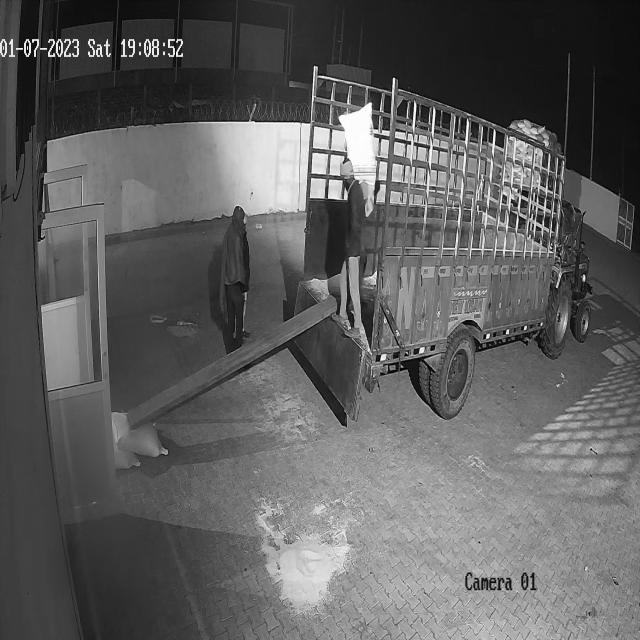sack: (111, 409, 169, 456)
